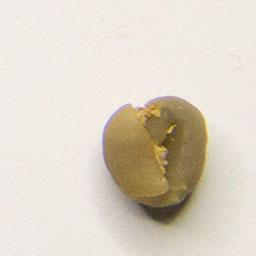peaberry: (98, 90, 211, 211)
